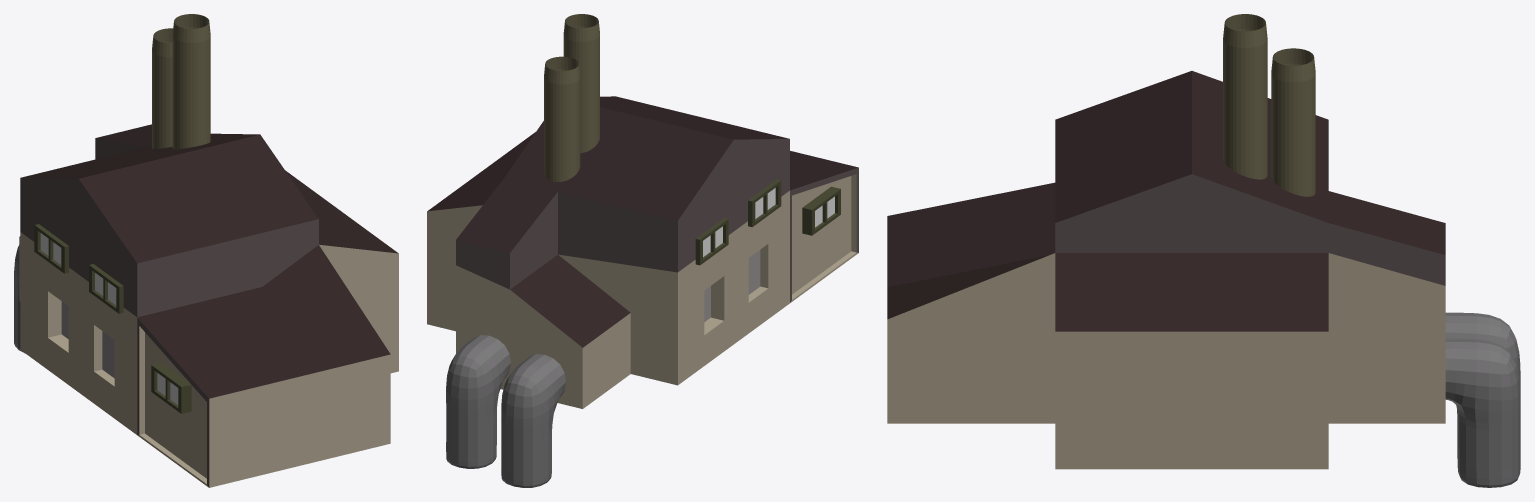
File: Industrial.fbx
3 views of the same model, side by side, from view 1: azimuth 30°, elevation 25°; view 2: azimuth 150°, elevation 25°; view 3: azimuth 270°, elevation 25° (orthographic). The views are drawn at different scales.
Parts seen in each view (by area): view 1: Door, Circle, Circle.001, Cube.003, Cube.005, Cube.006, Cube.001; view 2: Door, Cube.001, Cube.002, Circle.001, Circle, Cube.003, Cube.005, Cube.006; view 3: Door, Cube.002, Circle, Circle.001, Cube.001.
Part boxes in pixels (x1,y1,x2,y2): Door: (19,124,398,487); Circle: (172,14,210,149); Circle.001: (152,28,173,148); Cube.003: (151,362,191,413); Cube.005: (89,264,123,313); Cube.006: (34,224,68,273); Cube.001: (14,245,24,353); Door: (427,96,858,408); Cube.001: (501,354,566,487); Cube.002: (446,335,510,468); Circle.001: (544,56,580,181); Circle: (563,14,599,153); Cube.003: (802,186,840,235); Cube.005: (748,179,781,227); Cube.006: (695,218,728,265); Door: (887,71,1445,469); Cube.002: (1445,338,1520,487); Circle: (1223,14,1267,179); Circle.001: (1271,48,1315,196); Cube.001: (1445,312,1520,396).
Size of the model in its own units: 14329 by 20038 by 25282.
